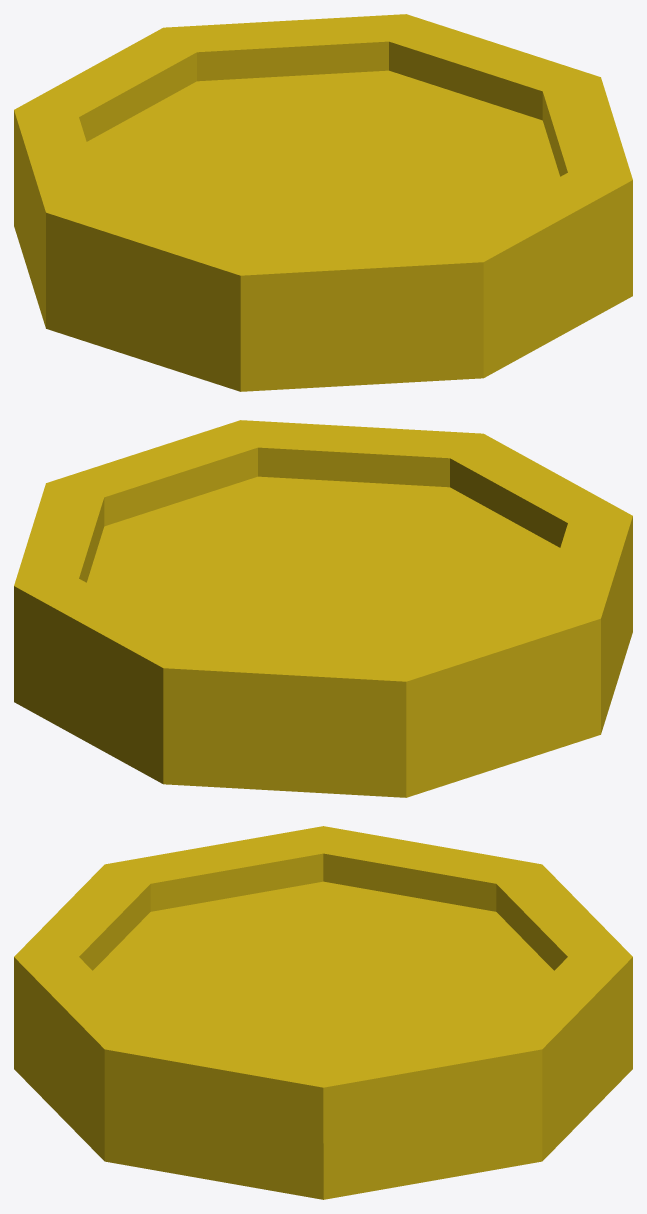
Rendered from munt.fbx.
The picture shows the model from 3 angles, top to bottom: view 1: azimuth 30°, elevation 25°; view 2: azimuth 150°, elevation 25°; view 3: azimuth 270°, elevation 25°; orthographic projection. The views are drawn at different scales.
Visible parts, largest first — view 1: Cylinder; view 2: Cylinder; view 3: Cylinder.
Part boxes in pixels (bbox=[...]): Cylinder: bbox=[14, 14, 632, 391]; Cylinder: bbox=[14, 420, 632, 797]; Cylinder: bbox=[14, 826, 632, 1199].
Bounding box in the file's own units: 0.1 × 0.02 × 0.1.
